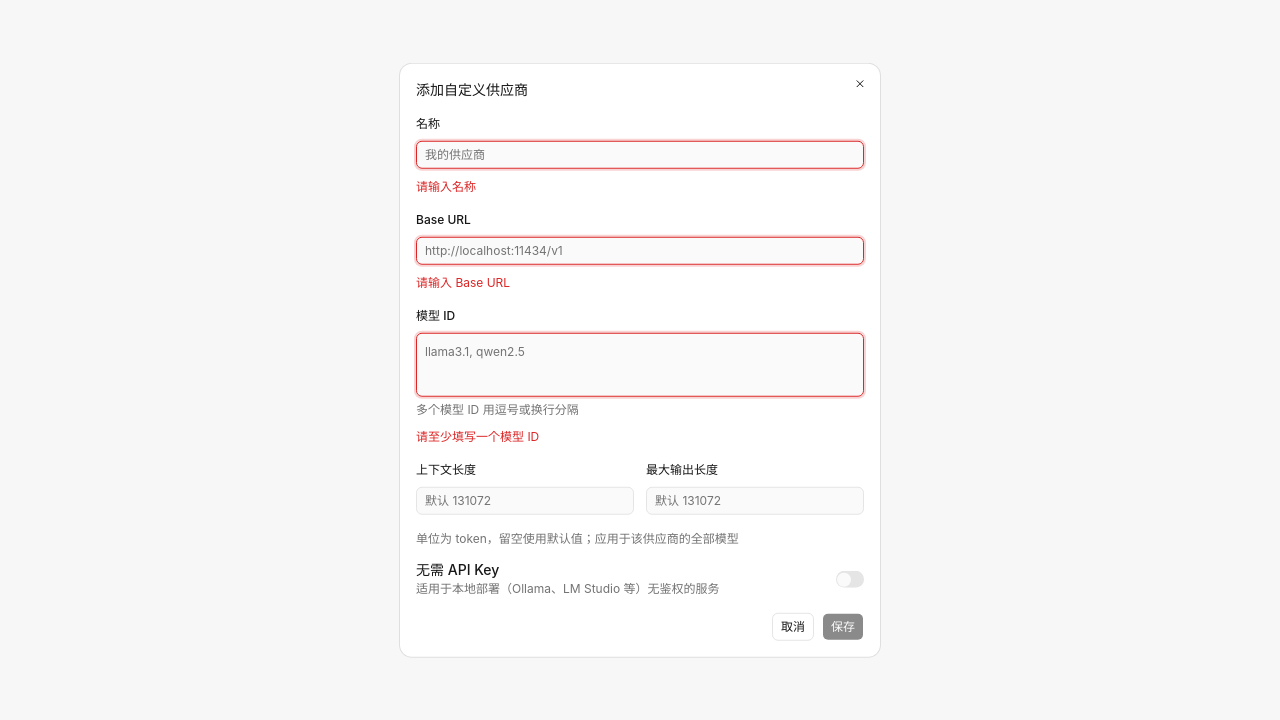
Test: CustomProviderDialog › rejects non-positive-integer limits while empty means default
Type "X" into the field labelled "名称" at (640, 154), box [416,140,864,168]
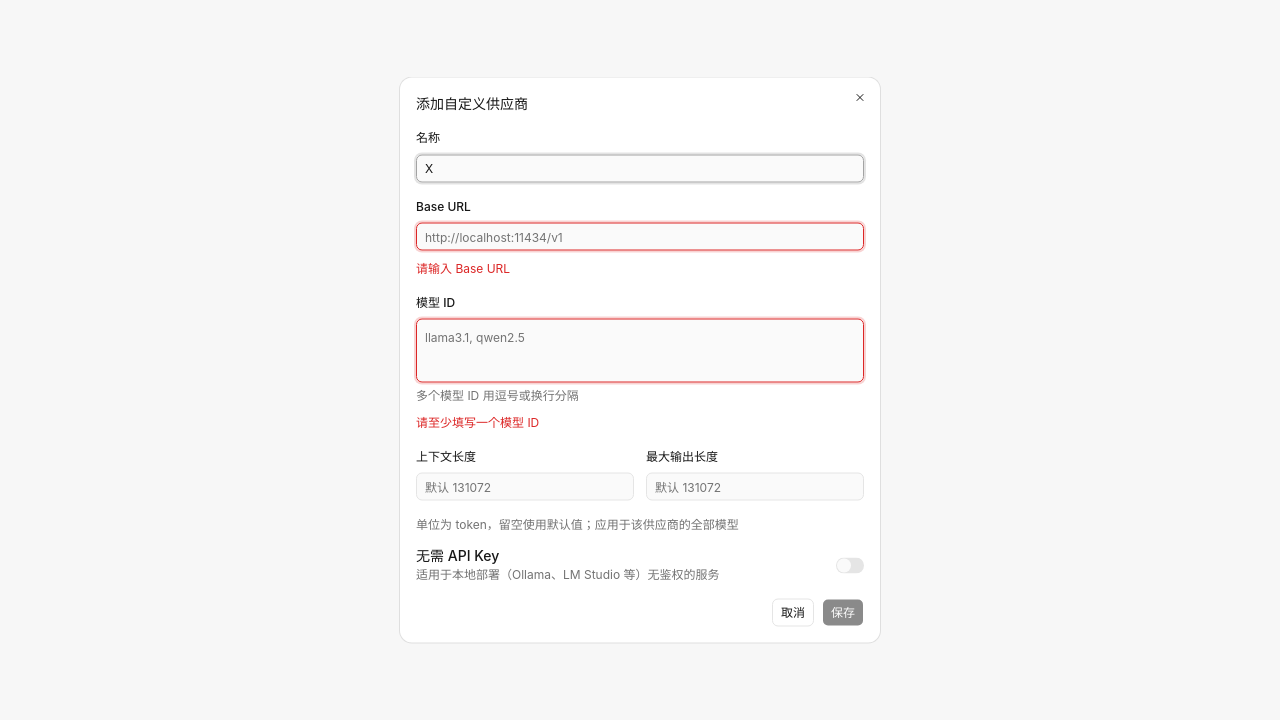
Type "https://api.example" into the field labelled "Base URL" at (640, 236), box [416,222,864,250]
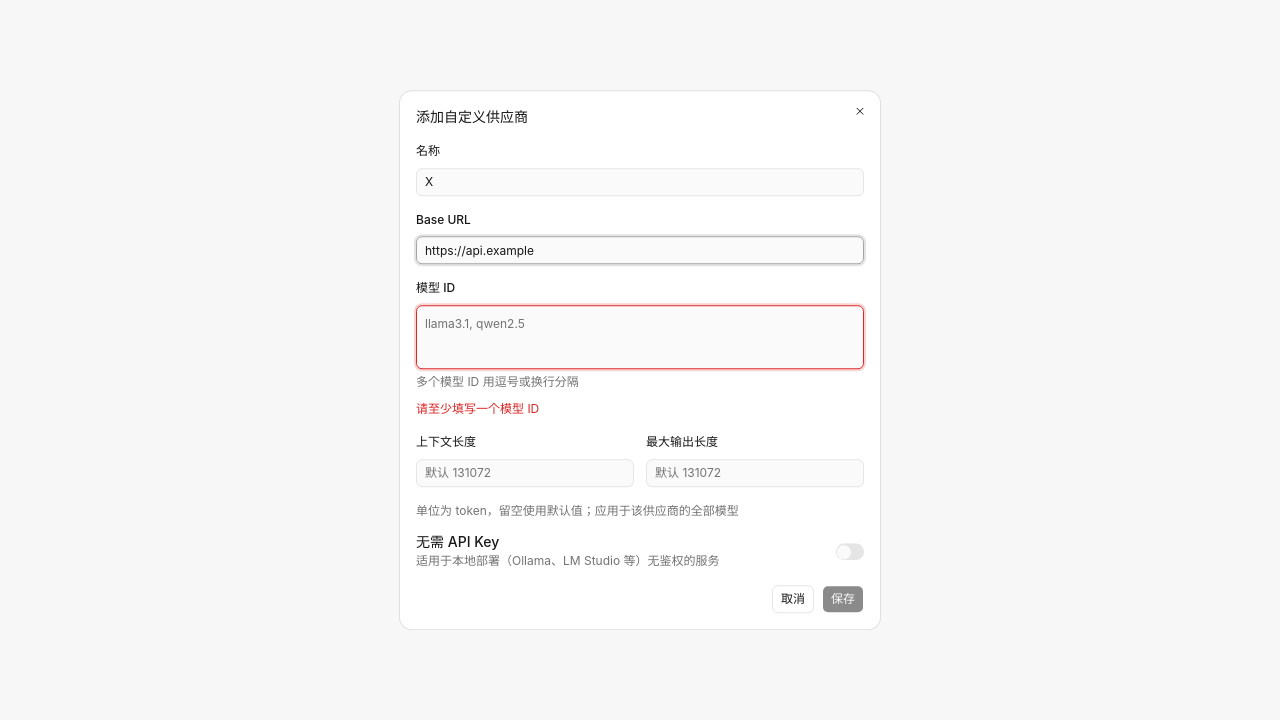
Type "m1" into the text box labelled "模型 ID" at (640, 337), box [416,305,864,369]
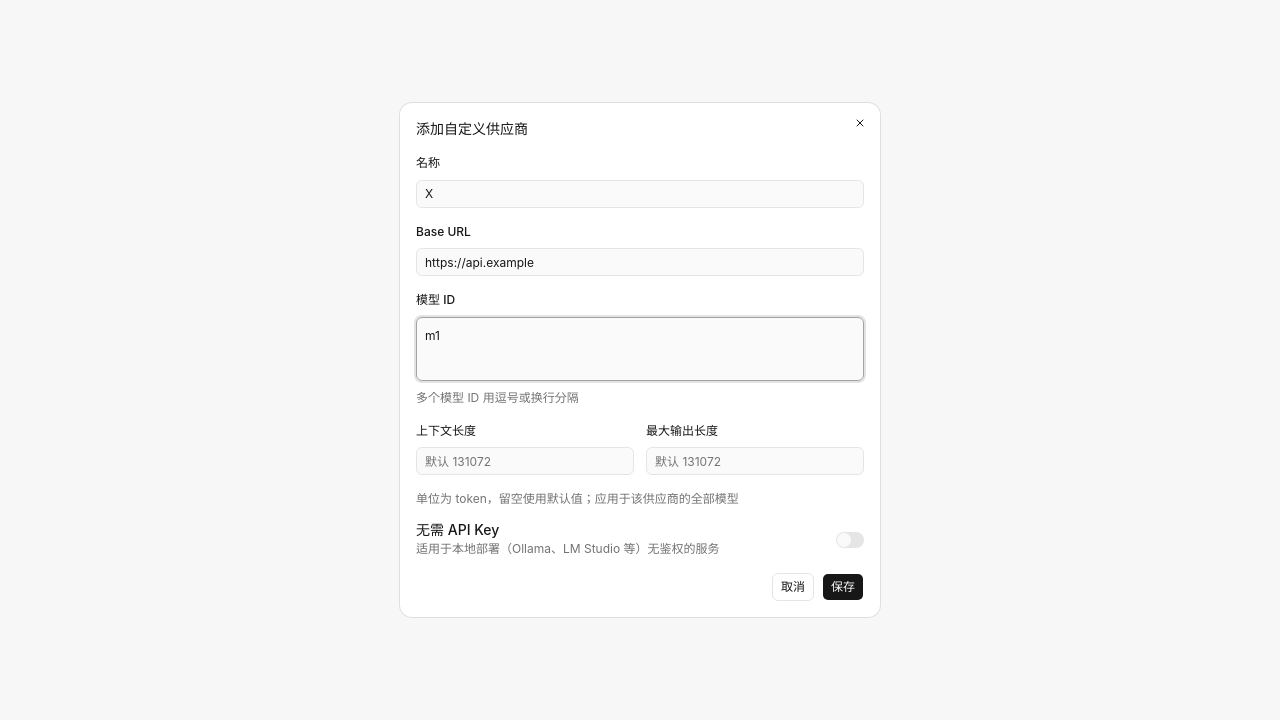
Type "-5" into the number field labelled "上下文长度" at (525, 461), box [416,447,634,475]
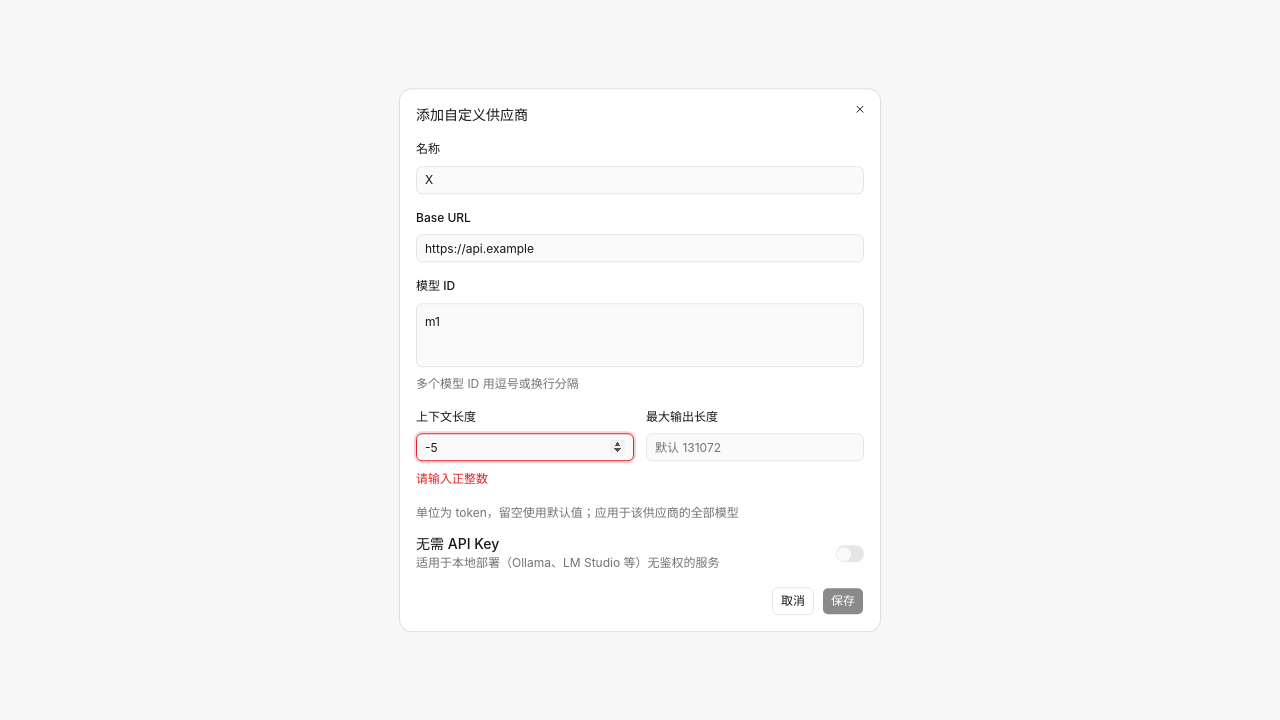
Check: the text "请输入正整数" is shown, box [416,471,488,486]
Check: the button "保存" is disabled, box [822,587,864,615]
Clear the number field labelled "上下文长度" at (525, 447), box [416,433,634,461]
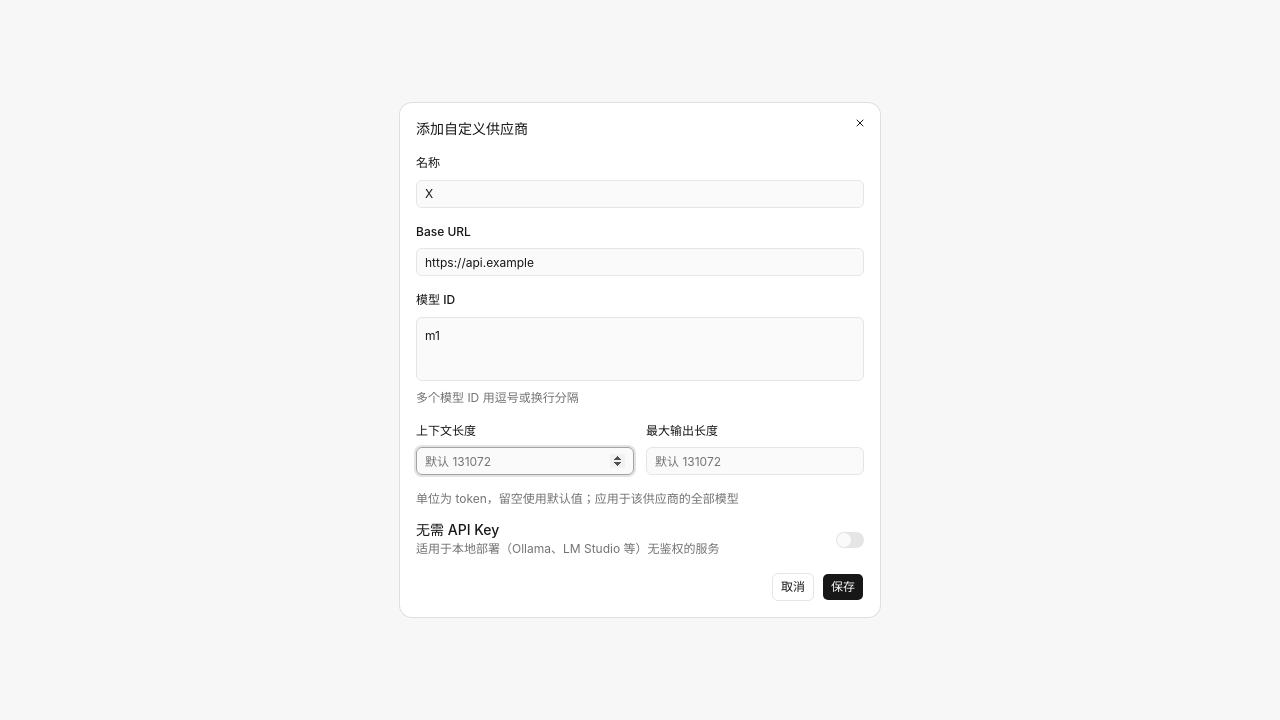
Check: the text "请输入正整数" is gone
